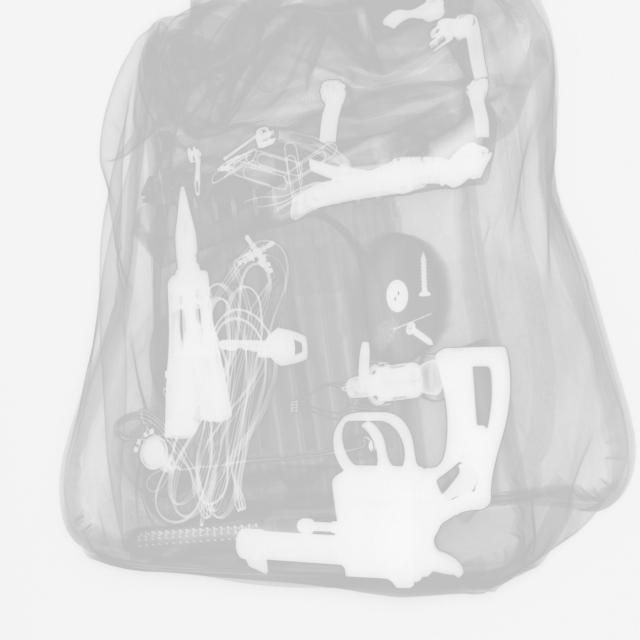pistol: (236, 342, 512, 587)
